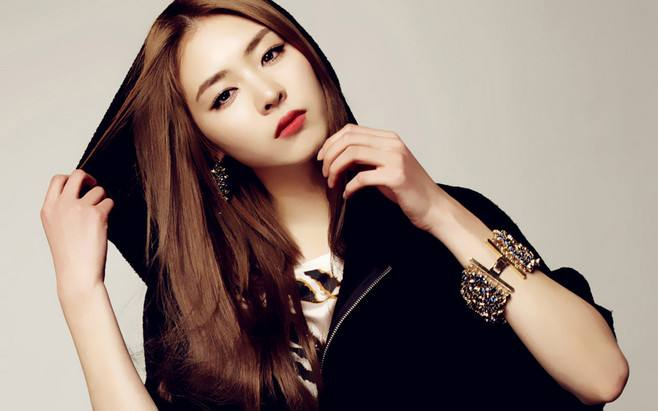person: (81, 30, 568, 411)
